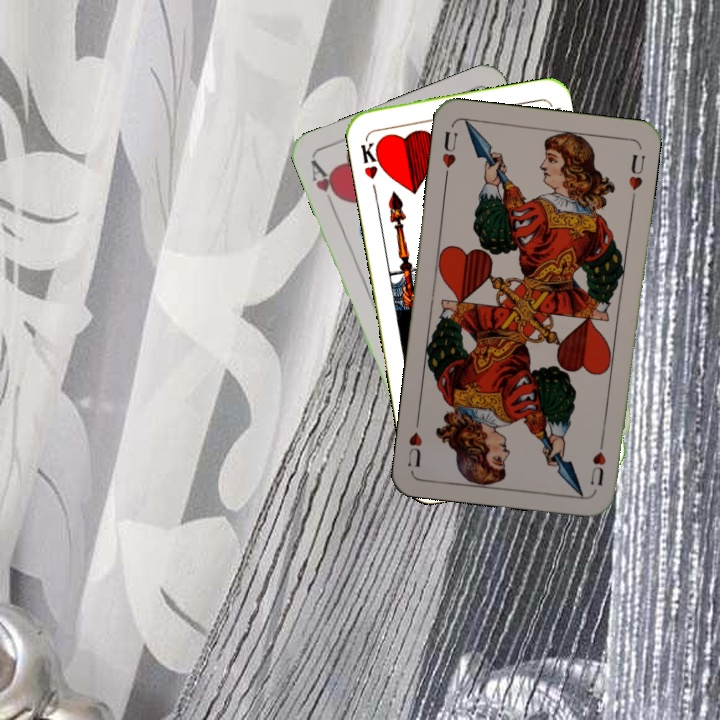HA: (307, 156, 344, 212)
HK: (357, 134, 386, 181)
HU: (586, 433, 609, 488), (438, 127, 460, 182)
